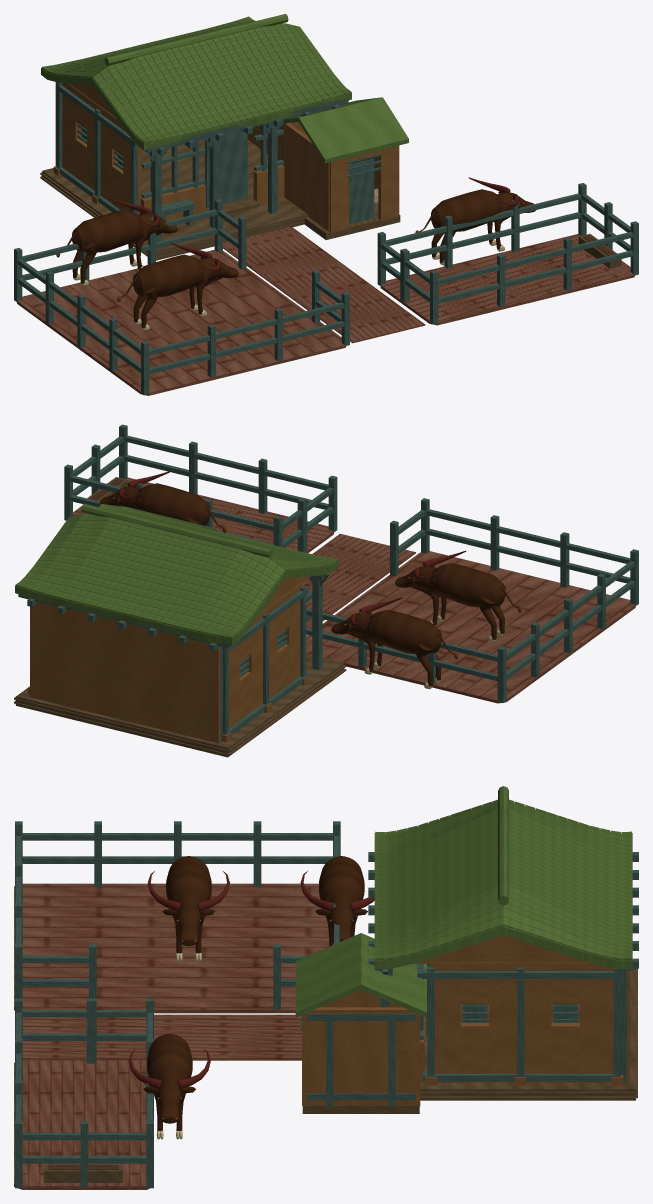
3 views of the same model, one above another, from view 1: azimuth 30°, elevation 25°; view 2: azimuth 150°, elevation 25°; view 3: azimuth 270°, elevation 25° (orthographic). The views are drawn at different scales.
Visible parts, largest first — view 1: garrison_part_0001, garrison_part_0000; view 2: garrison_part_0001, garrison_part_0000; view 3: garrison_part_0001, garrison_part_0000.
Part boxes in pixels (x1,y1,x2,y2): garrison_part_0001: [14, 14, 638, 395]; garrison_part_0000: [17, 139, 634, 395]; garrison_part_0001: [15, 424, 638, 743]; garrison_part_0000: [14, 477, 635, 757]; garrison_part_0001: [15, 786, 638, 1188]; garrison_part_0000: [14, 883, 637, 1189].
Bounding box in the file's own units: 1500 × 457 × 1309.
Materials: 1 (1 with a texture image).
